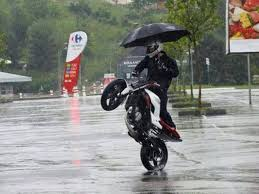motorcycle: (98, 70, 189, 178)
